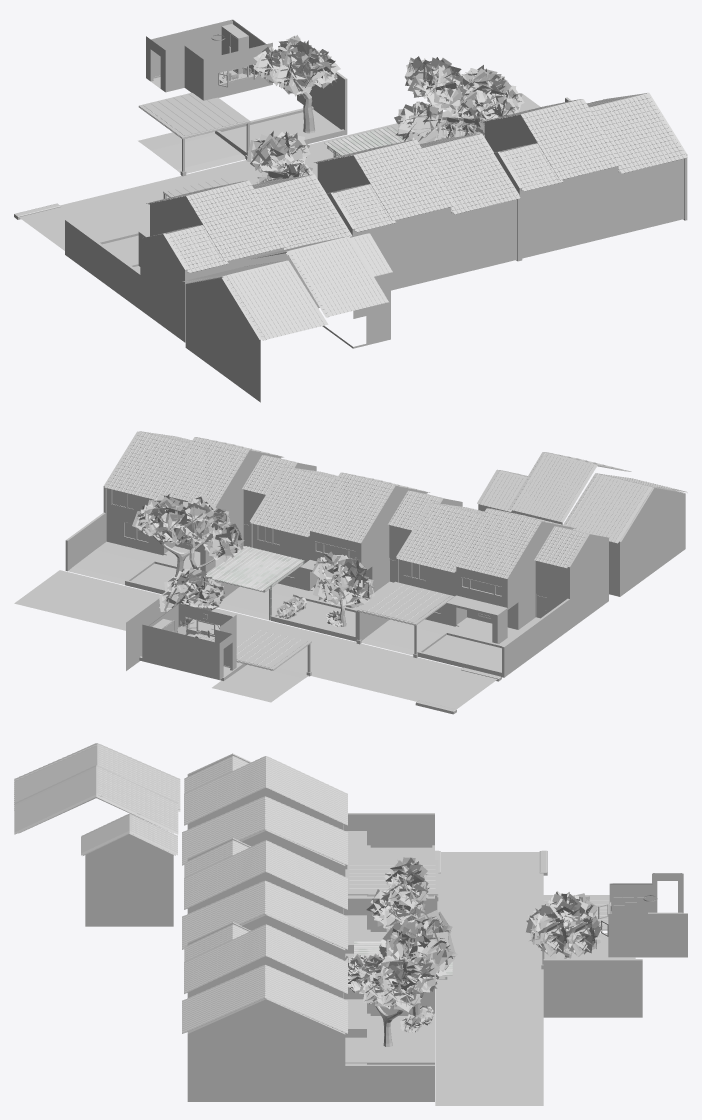
The model's file is roomModel.glb.
The picture shows the model from 3 angles, top to bottom: view 1: azimuth 30°, elevation 25°; view 2: azimuth 150°, elevation 25°; view 3: azimuth 270°, elevation 25°; orthographic projection. The views are drawn at different scales.
Parts seen in each view (by area): view 1: Cube.005, Cube.010, Cube.006, Cube.015, Cube.007, FloorEdge, Plane.001, BirchTree_5.002, CommonTree_4.002, CommonTree_1.002, Cube.021, BirchTree_3.003 (+3 smaller); view 2: Cube.006, Cube.010, Cube.005, Cube.015, Plane.001, Plane.002, FloorEdge, Cube.007, BirchTree_5.002, Cube.011, BirchTree_3.003, Cube.012 (+3 smaller); view 3: Cube.005, Cube.015, Cube.006, Cube.010, Plane.002, Plane.001, Cube.007, FloorEdge, CommonTree_1.002, CommonTree_4.002, BirchTree_5.002, BirchTree_3.003 (+2 smaller).
Part boxes in pixels (<box>): Cube.005: <box>481,92,687,260</box>; Cube.010: <box>314,133,520,290</box>; Cube.006: <box>65,174,352,342</box>; Cube.015: <box>182,233,392,402</box>; Cube.007: <box>138,71,347,173</box>; FloorEdge: <box>146,19,272,100</box>; Plane.001: <box>19,160,262,250</box>; BirchTree_5.002: <box>394,56,469,144</box>; CommonTree_4.002: <box>253,35,340,133</box>; CommonTree_1.002: <box>436,65,524,138</box>; Cube.021: <box>138,92,250,176</box>; BirchTree_3.003: <box>247,131,313,183</box>; Cube.006: <box>360,502,608,677</box>; Cube.010: <box>215,467,462,641</box>; Cube.005: <box>65,431,316,593</box>; Cube.015: <box>477,452,687,596</box>; Plane.001: <box>270,624,497,709</box>; Plane.002: <box>14,570,279,637</box>; FloorEdge: <box>142,603,236,679</box>; Cube.007: <box>124,592,308,702</box>; BirchTree_5.002: <box>156,495,244,569</box>; Cube.011: <box>206,546,304,620</box>; BirchTree_3.003: <box>312,551,374,626</box>; Cube.012: <box>356,581,454,657</box>; Cube.005: <box>182,922,434,1101</box>; Cube.015: <box>14,743,180,926</box>; Cube.006: <box>182,753,434,897</box>; Cube.010: <box>182,838,434,960</box>; Plane.002: <box>435,979,543,1105</box>; Plane.001: <box>437,852,543,978</box>; Cube.007: <box>543,933,642,1017</box>; FloorEdge: <box>598,873,687,957</box>; CommonTree_1.002: <box>344,953,439,1046</box>; CommonTree_4.002: <box>526,891,602,958</box>; BirchTree_5.002: <box>375,910,457,1026</box>; BirchTree_3.003: <box>366,857,429,928</box>.
Size of the model in its own units: 16.46 by 3.52 by 18.02.
2 materials, 2 textured.
